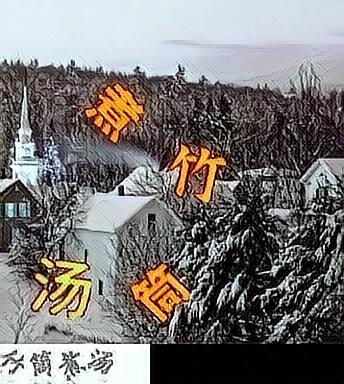CCC0: (30, 258, 92, 322)
CDB2: (130, 262, 192, 326)
D6F1: (166, 140, 228, 204)
D6F3: (84, 81, 146, 145)
